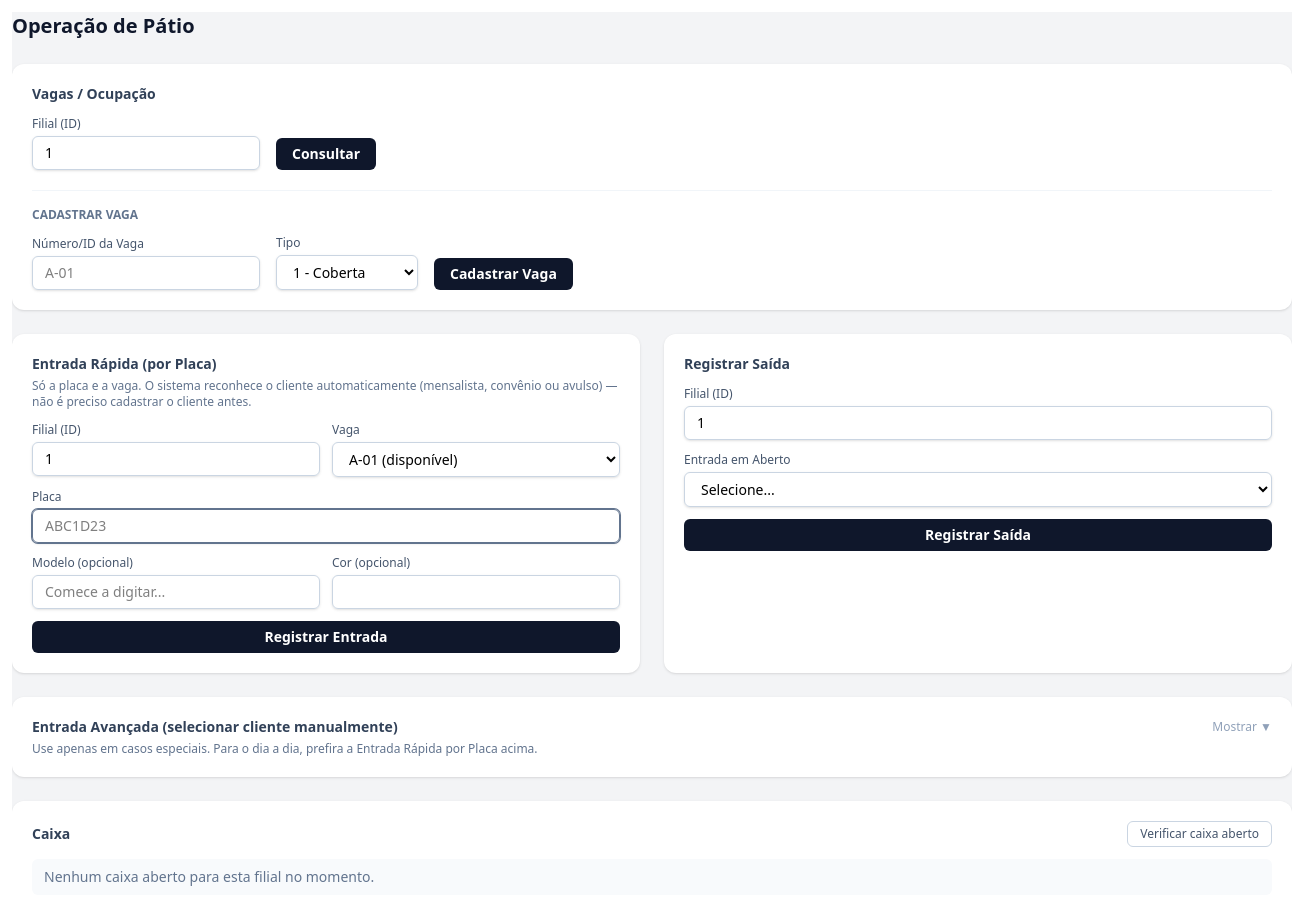
it: ParkingOperationsPage — Quick Entry by Plate › shows an error message when the entry-by-plate request fails
Type "XYZ9Z99" into the field labelled "Placa" at (326, 526), box [32,509,620,543]
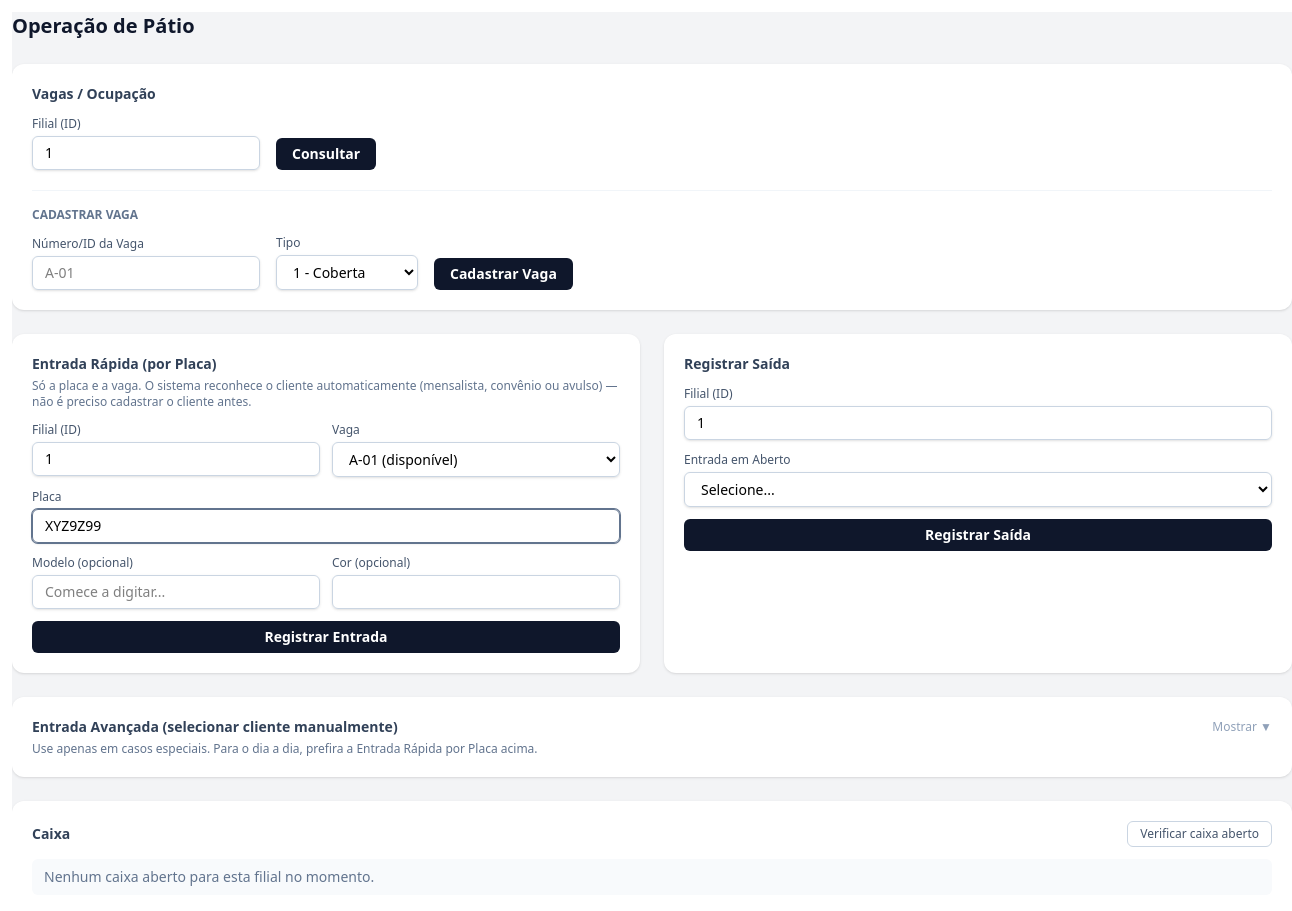
Click the button "Registrar Entrada" at (326, 637), box [32,621,620,653]
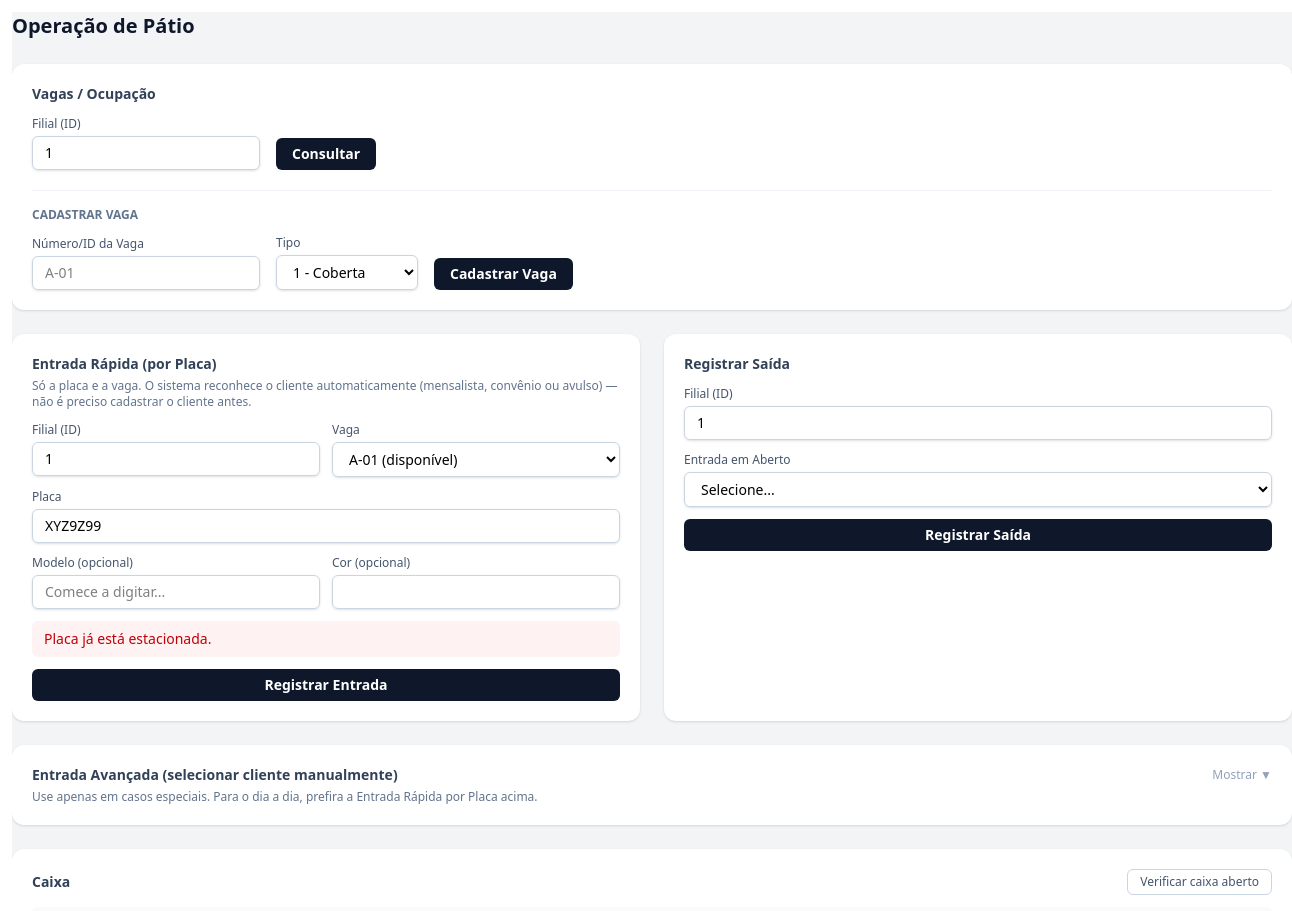
Expected: the text "Placa já está estacionada." is shown, [32,621,620,657]
